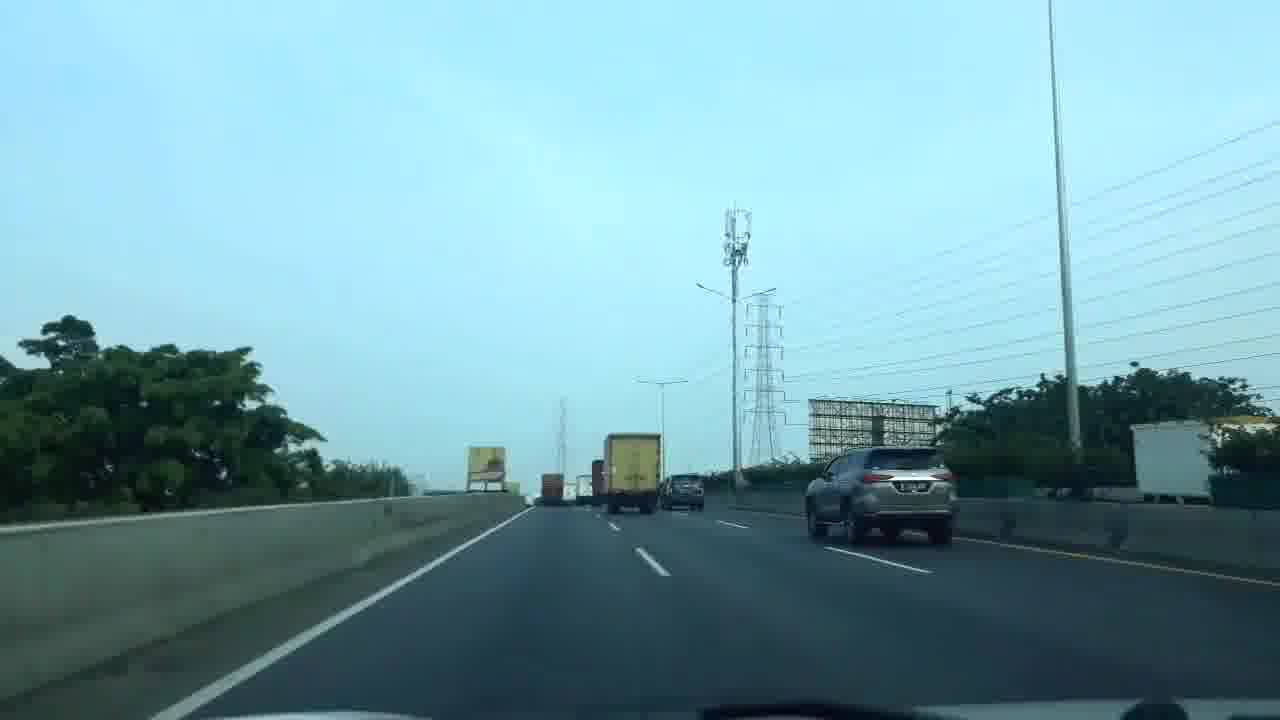plate_positive: (899, 482, 928, 492)
